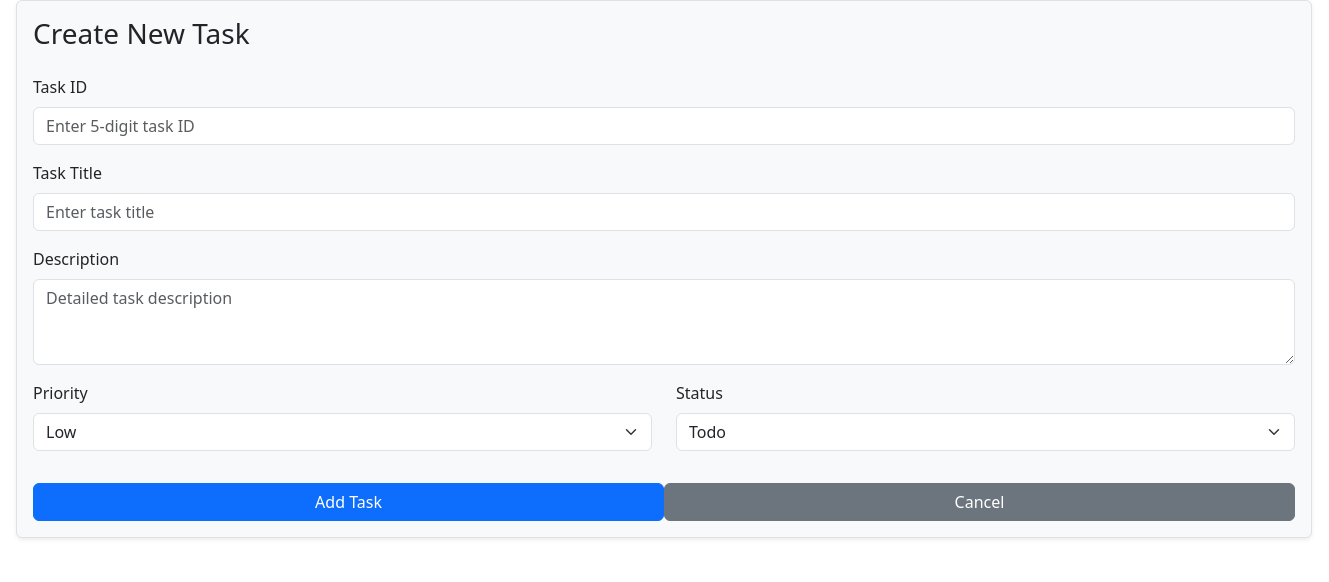
TaskForm Component › shows validation error for invalid Task ID
Type "123" into the field with placeholder "Enter 5-digit task ID" at (664, 126), box [33,107,1295,145]
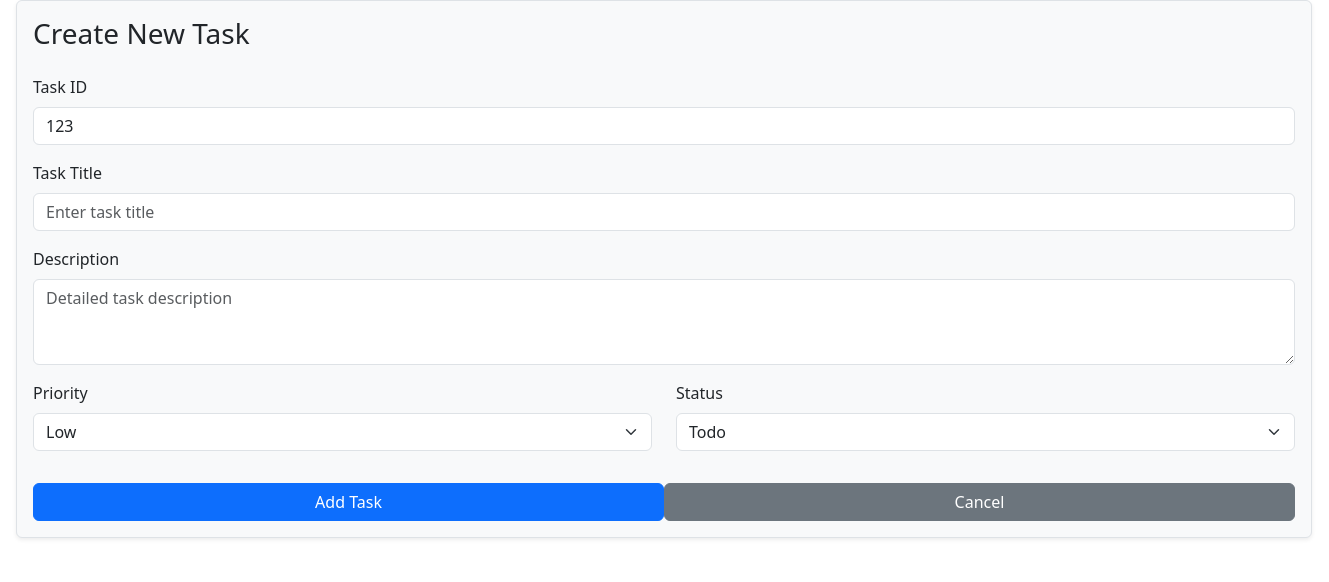
Type "Valid Title" into the field with placeholder "Enter task title" at (664, 212), box [33,193,1295,231]
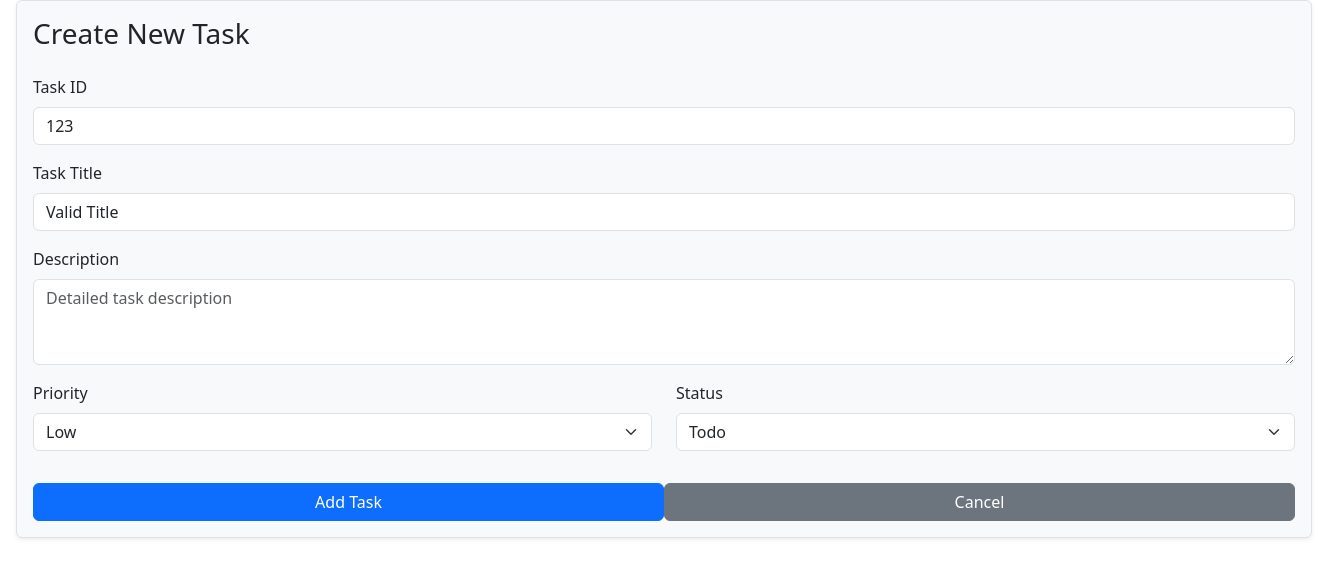
Click the button "Add Task" at (348, 502), box [33,483,664,521]
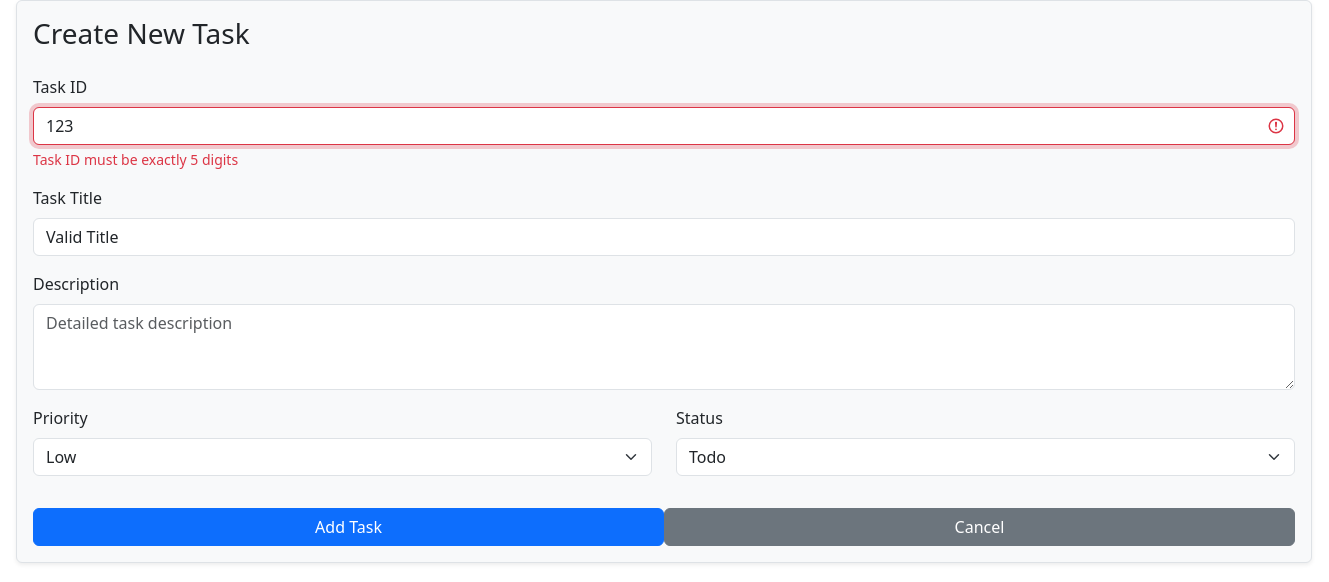
Expected: the text "Task ID must be exactly 5 digits" is shown, [33,150,238,169]
